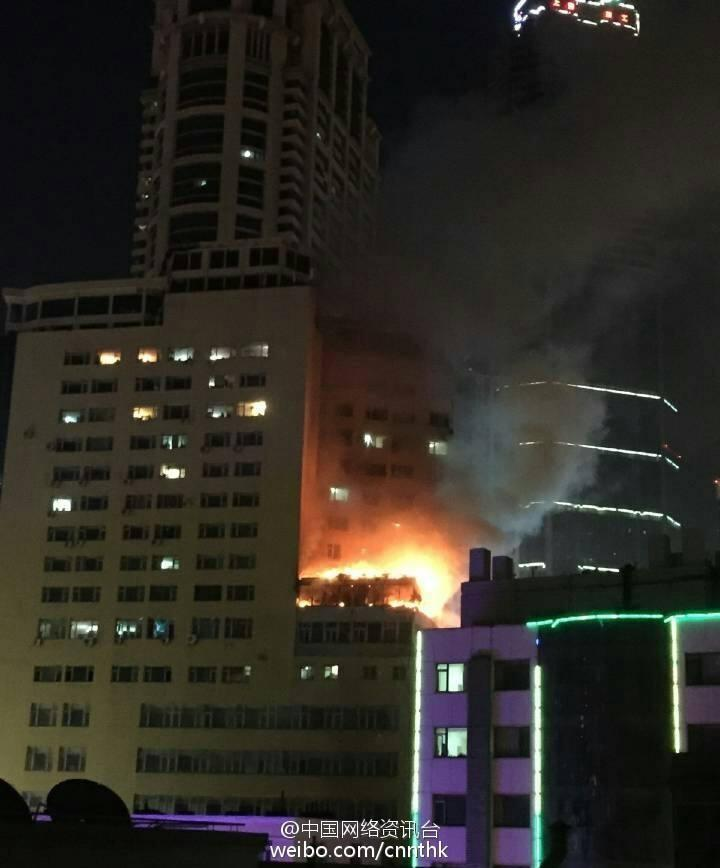fire: (299, 509, 456, 640)
